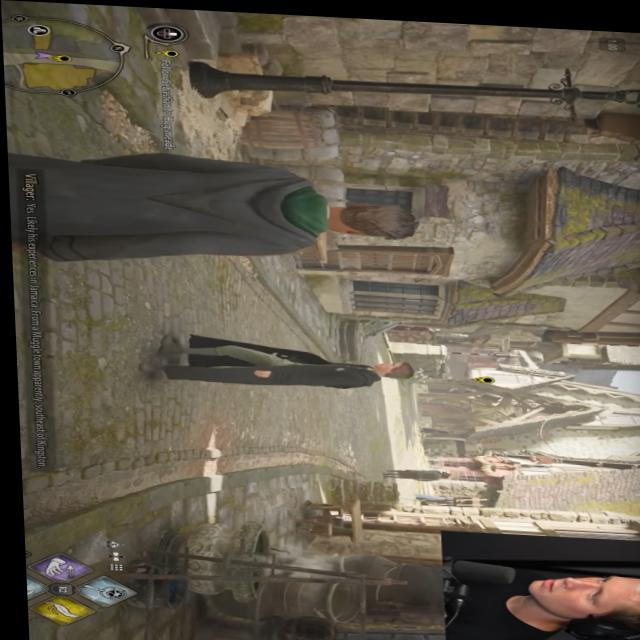compass: (152, 47, 179, 56), (44, 53, 71, 62), (465, 370, 491, 379)
